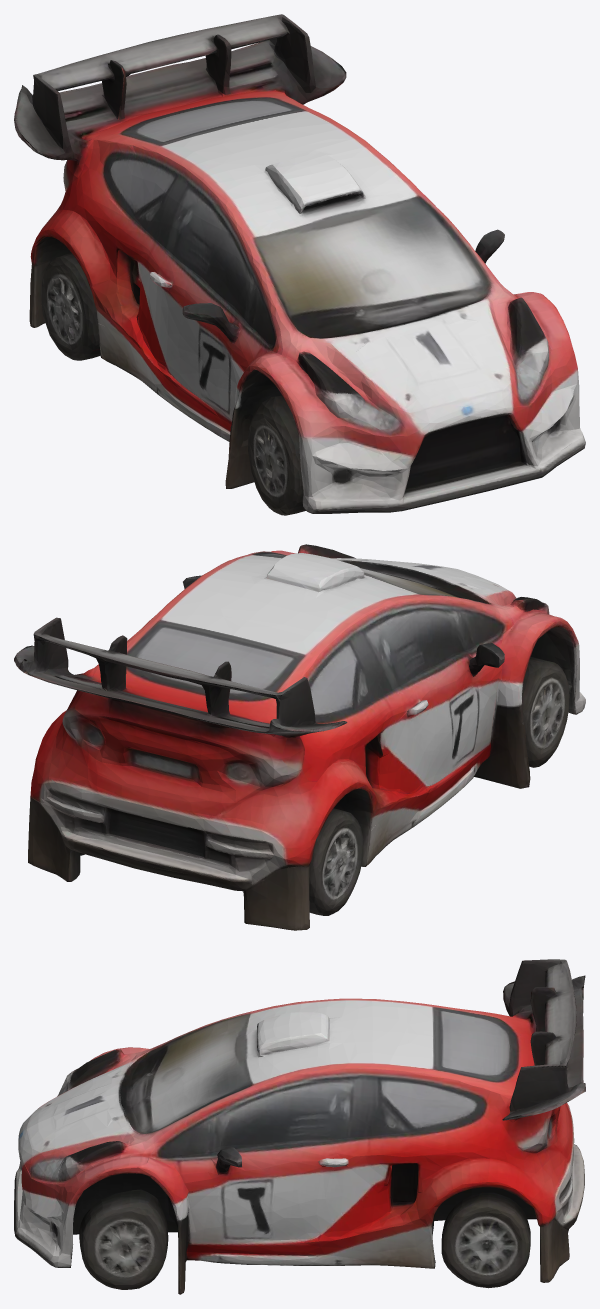
File: c3c06bac-6a1e-4503-be7f-4bc77db6c3bb.glb
3 views of the same model, one above another, from view 1: azimuth 30°, elevation 25°; view 2: azimuth 150°, elevation 25°; view 3: azimuth 270°, elevation 25° (orthographic). The views are drawn at different scales.
Visible parts, largest first — view 1: geometry_0; view 2: geometry_0; view 3: geometry_0.
Boxes of the visible parts, left/top/right/bottom form: geometry_0: left=14, top=14, right=585, bottom=515; geometry_0: left=14, top=544, right=585, bottom=930; geometry_0: left=14, top=959, right=585, bottom=1294.
Bounding box in the file's own units: 0.5663 × 0.4306 × 0.9975.
Materials: 1 (1 with a texture image).
